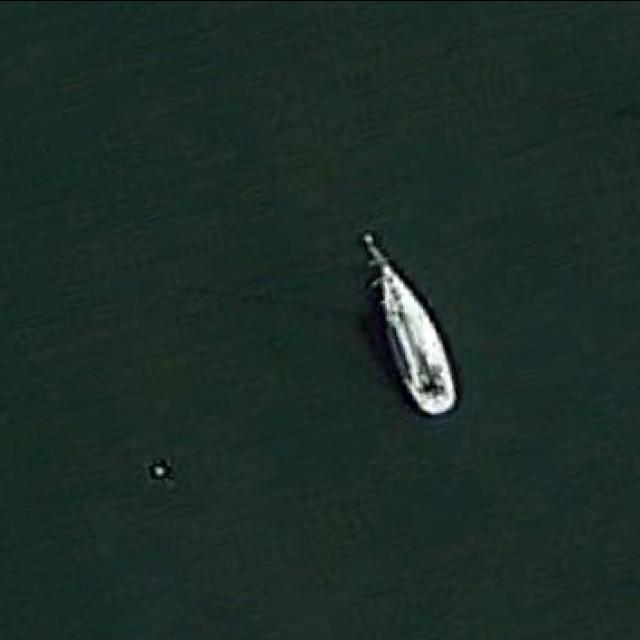ship: (360, 227, 460, 416)
